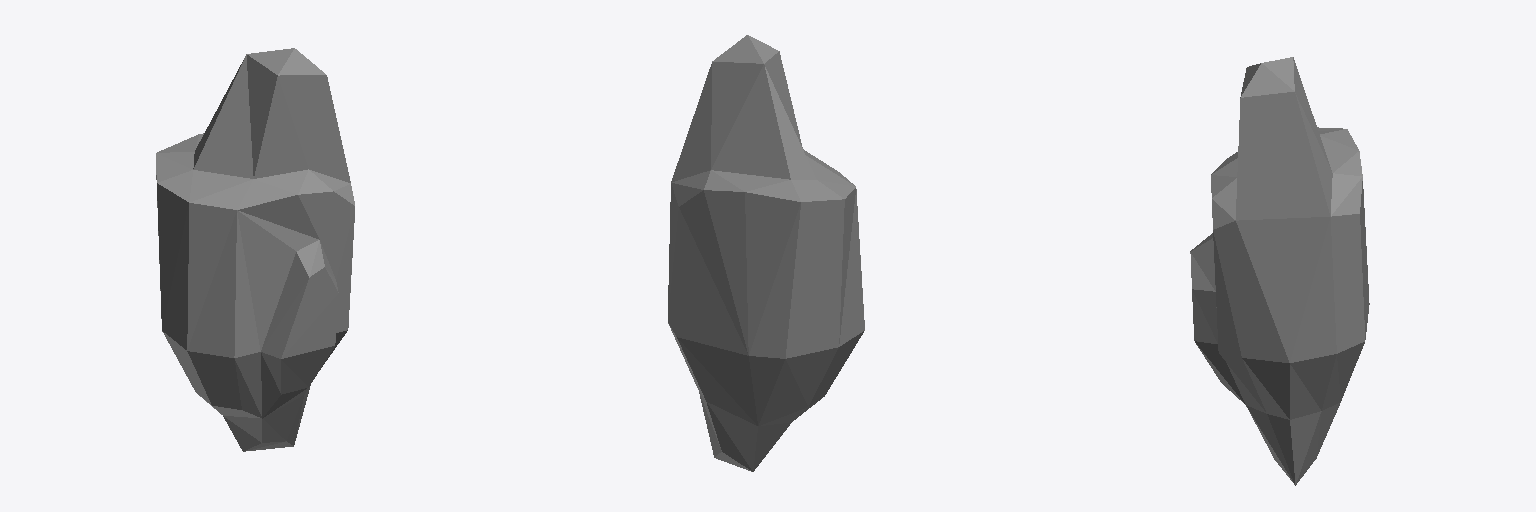
File: Rock01.obj
3 views of the same model, side by side, from view 1: azimuth 30°, elevation 25°; view 2: azimuth 150°, elevation 25°; view 3: azimuth 270°, elevation 25° (orthographic).
Visible parts, largest first — view 1: Rock01; view 2: Rock01; view 3: Rock01.
Boxes of the visible parts, x1=… form: Rock01: x1=156, y1=48, x2=354, y2=451; Rock01: x1=668, y1=35, x2=864, y2=471; Rock01: x1=1190, y1=57, x2=1369, y2=485.
Bounding box in the file's own units: 191 × 430 × 168.